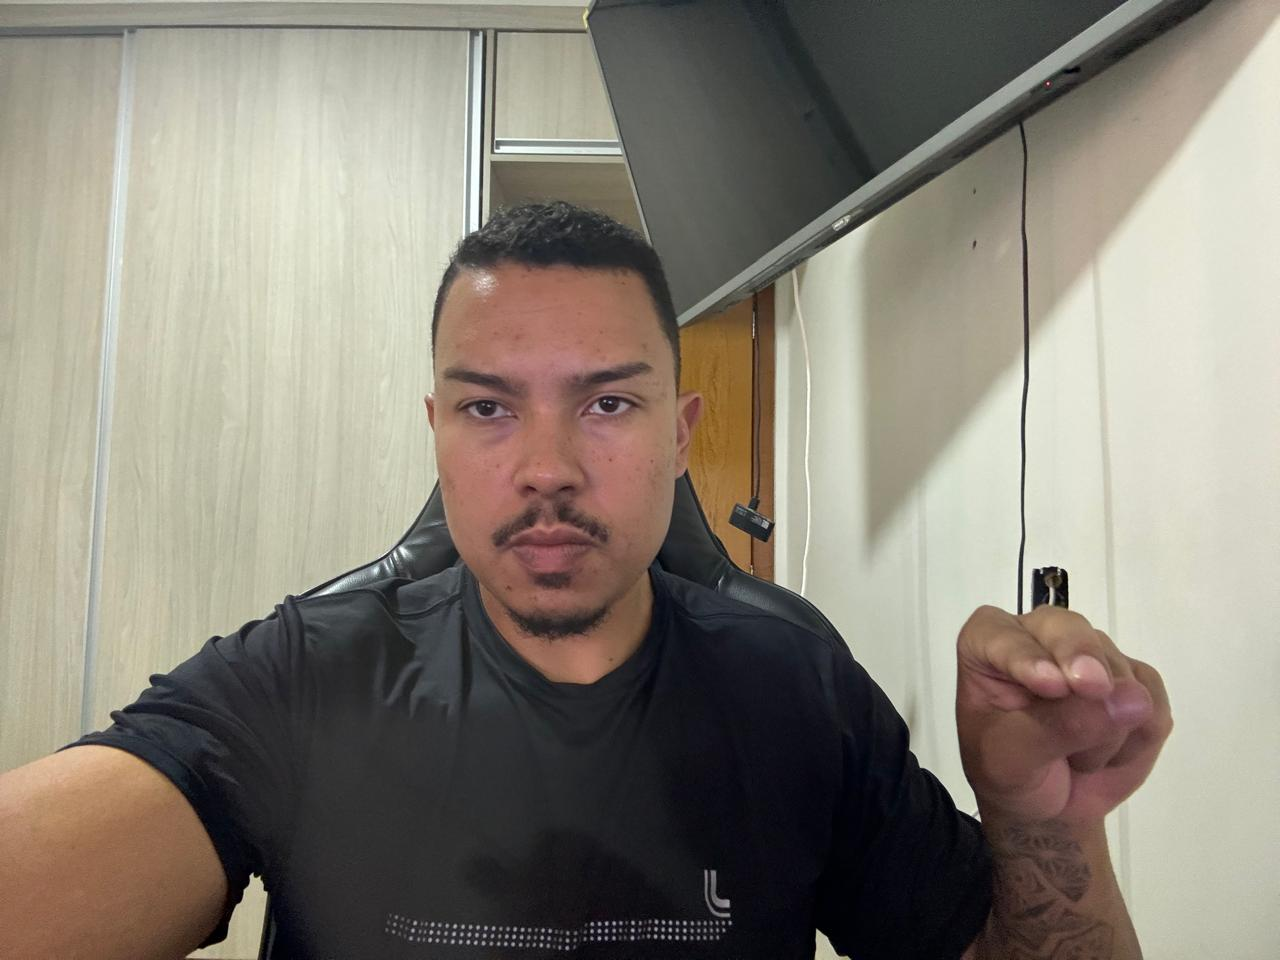n: (943, 585, 1187, 859)
